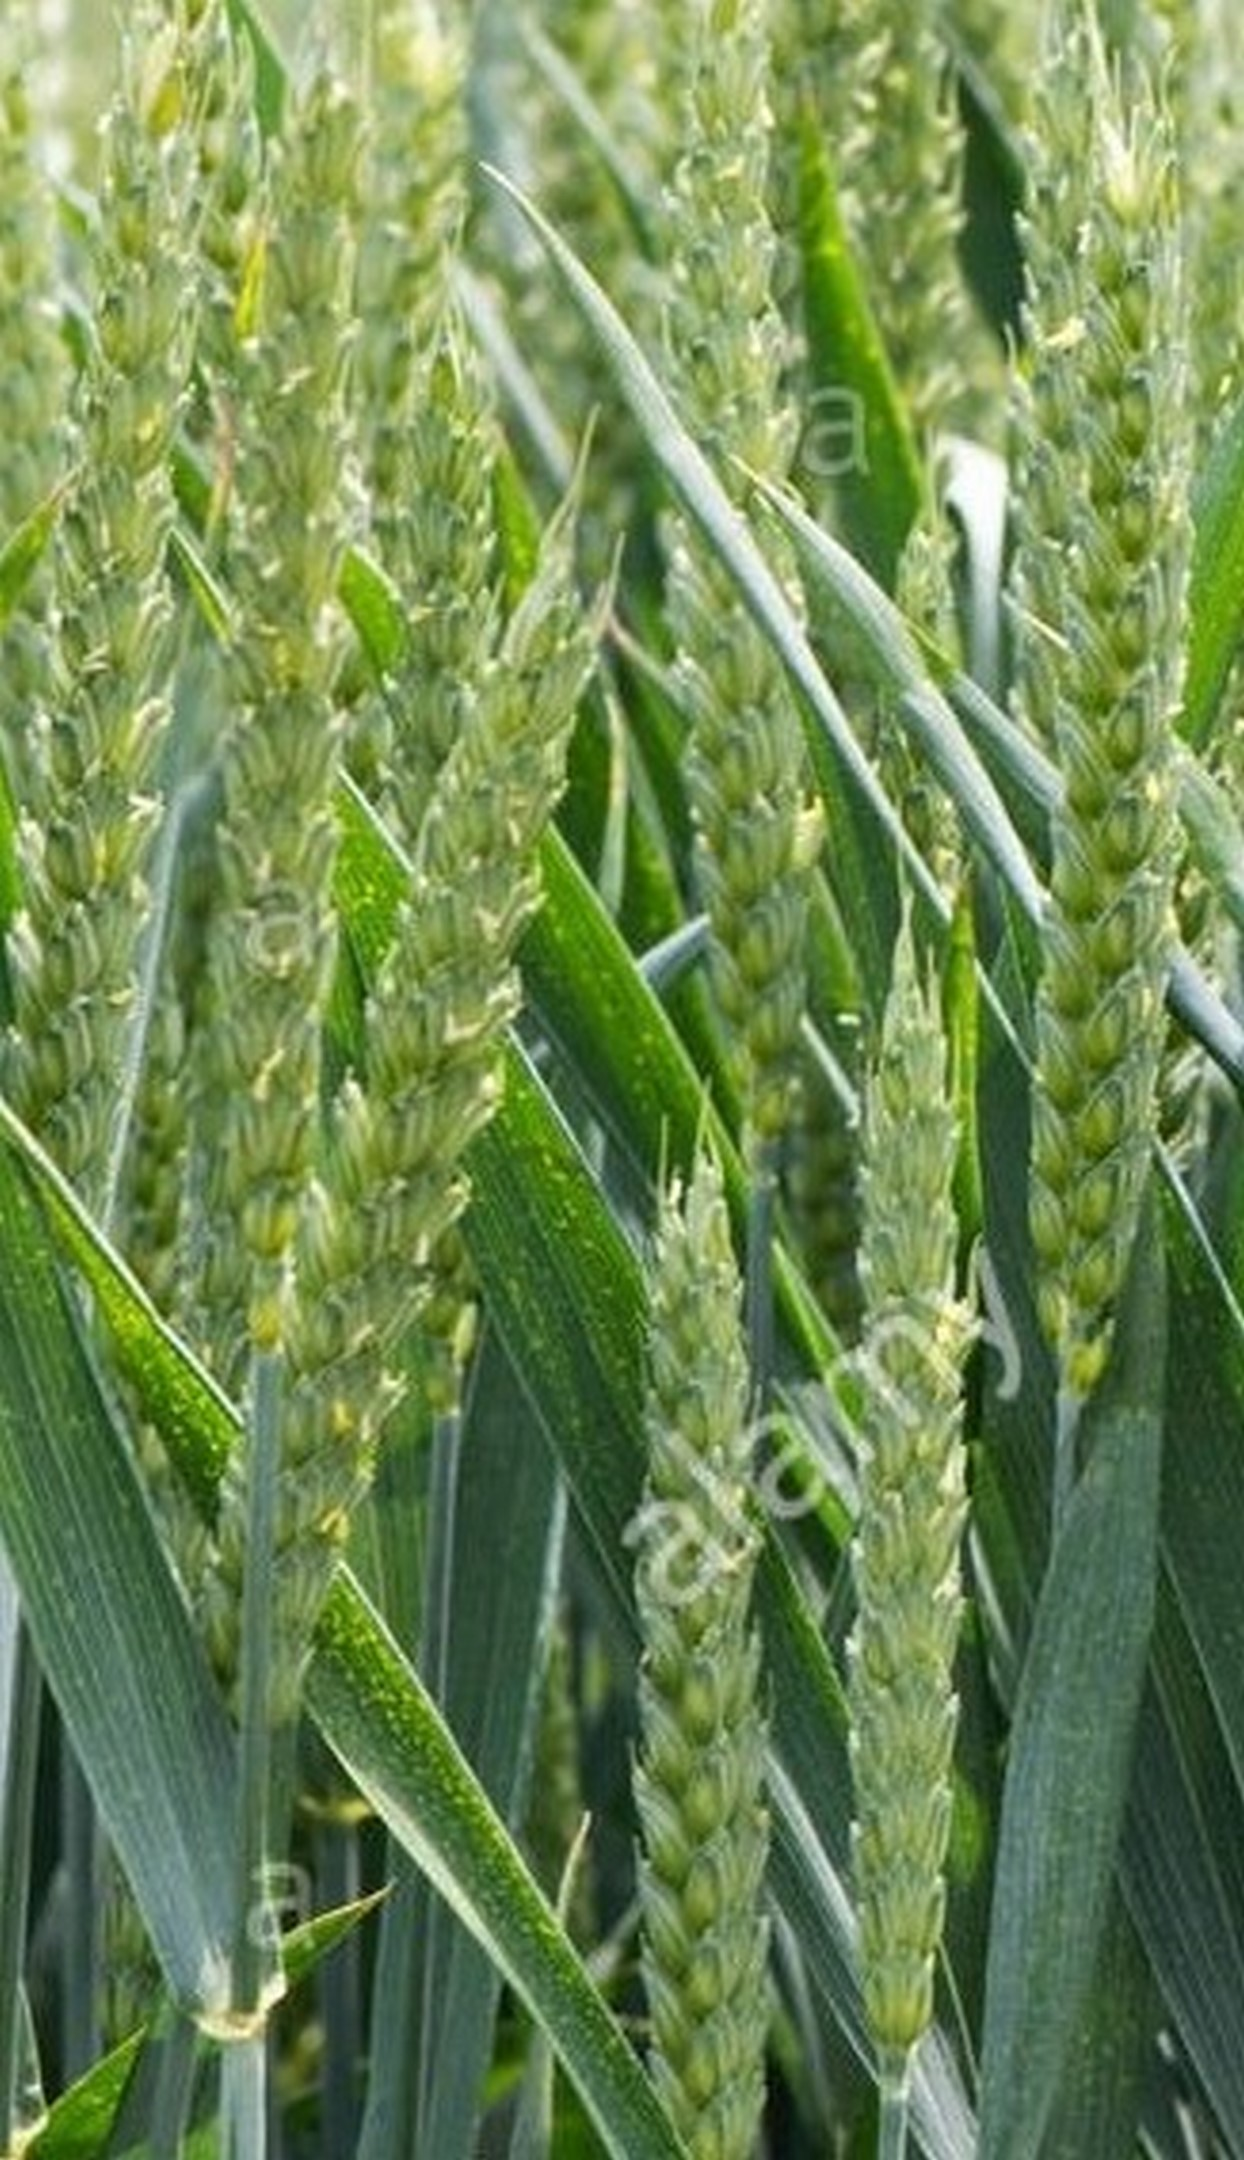Healthy Wheat: (184, 88, 626, 1616), (1019, 200, 1241, 1337)
